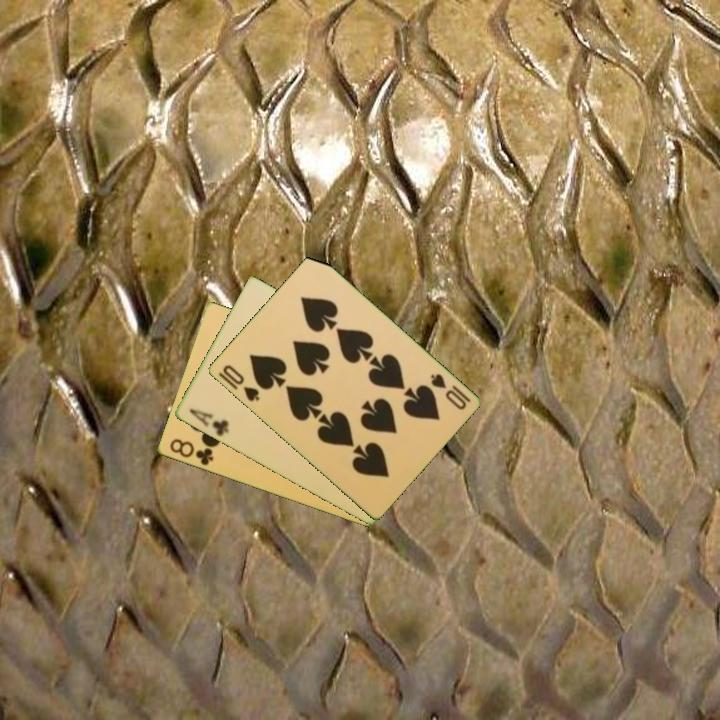10s: (426, 370, 473, 413), (218, 361, 262, 404)
8c: (166, 435, 216, 468)
Ac: (185, 405, 232, 439)
